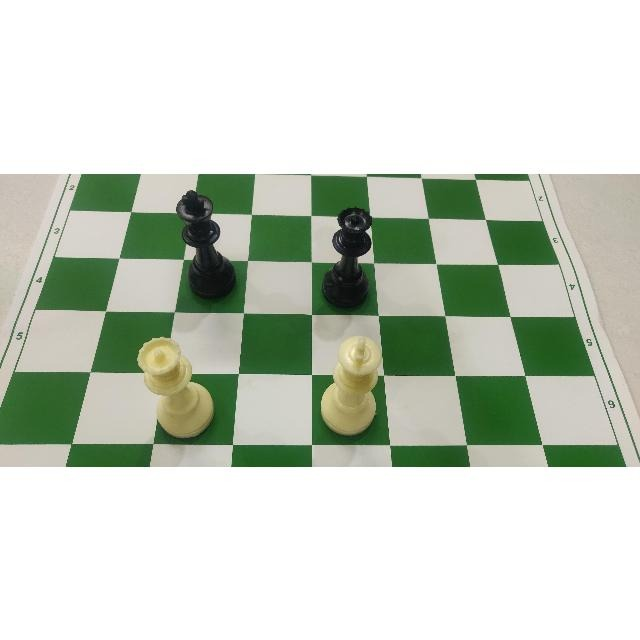black-king: (175, 186, 237, 301)
black-queen: (320, 204, 378, 310)
white-king: (320, 332, 382, 438)
white-queen: (135, 334, 216, 438)
